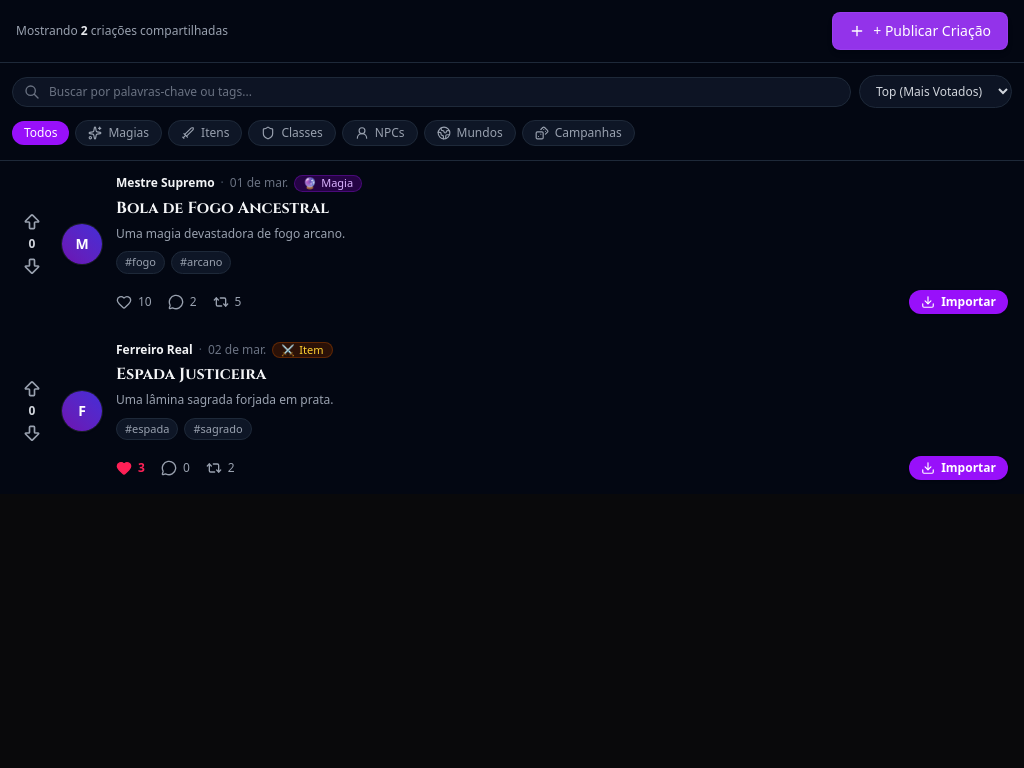
Test: CommunityFeed Component › abre o modal de criação ao clicar em '+ Publicar Criação'
The image size is (1024, 768).
Check: the heading "Bola de Fogo Ancestral" is shown, box 116,197 -> 329,219
Click the button "+ Publicar Criação".
click(920, 31)  # box 832,12 -> 1008,50
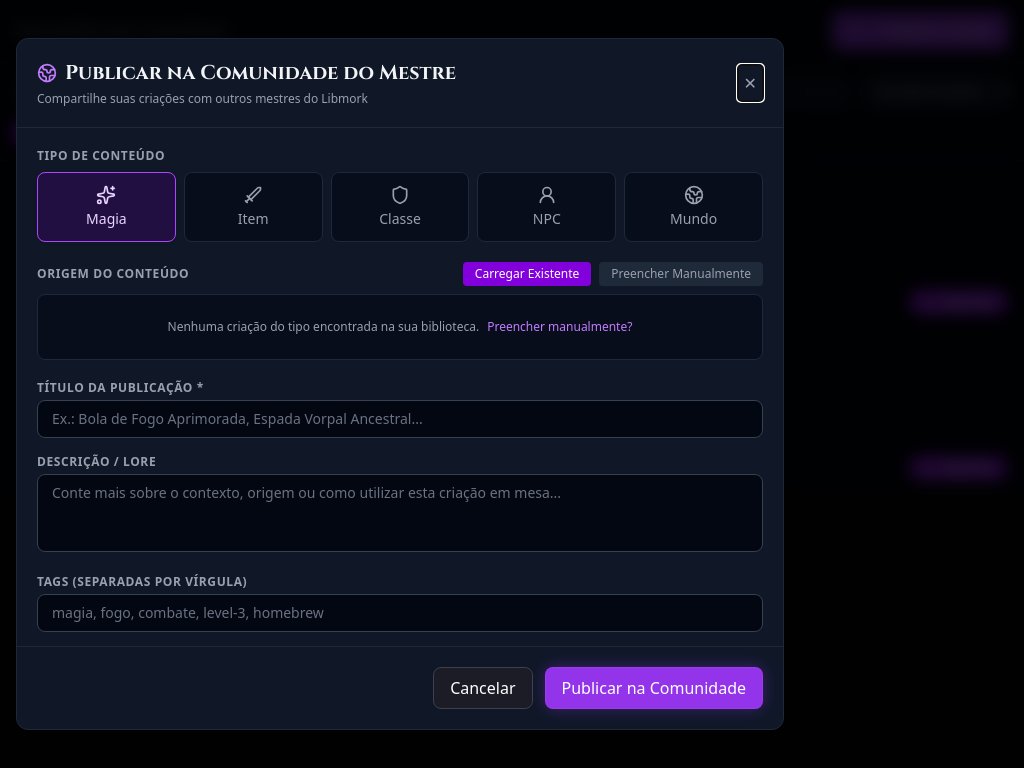
Check: the heading "Publicar na Comunidade do Mestre" is shown, box 37,59 -> 456,87
